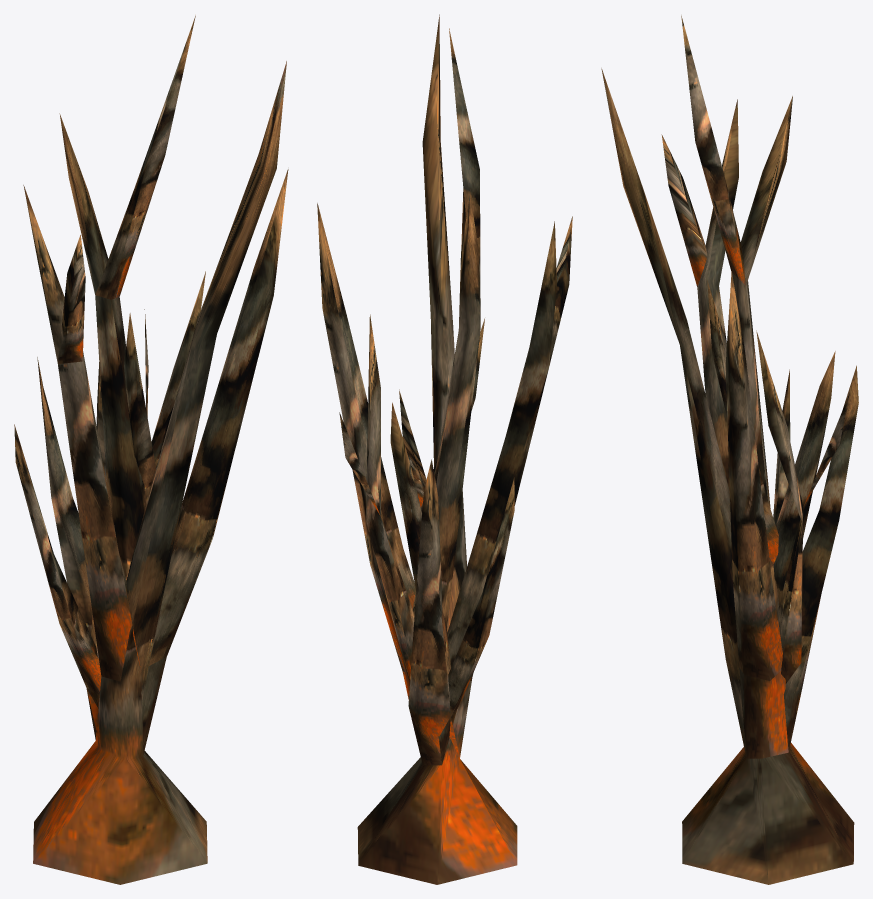
Rendered from PlateTree_1.gltf.
3 renders of one model, left to right at view 1: azimuth 30°, elevation 25°; view 2: azimuth 150°, elevation 25°; view 3: azimuth 270°, elevation 25°, orthographic. The views are drawn at different scales.
Visible parts, largest first — view 1: PlateTree_1; view 2: PlateTree_1; view 3: PlateTree_1.
Boxes of the visible parts, bbox=[...] form: PlateTree_1: bbox=[14, 15, 288, 884]; PlateTree_1: bbox=[317, 14, 572, 884]; PlateTree_1: bbox=[601, 15, 858, 884].
Bounding box in the file's own units: 2.35 × 7.32 × 2.03.
1 material, 1 textured.
